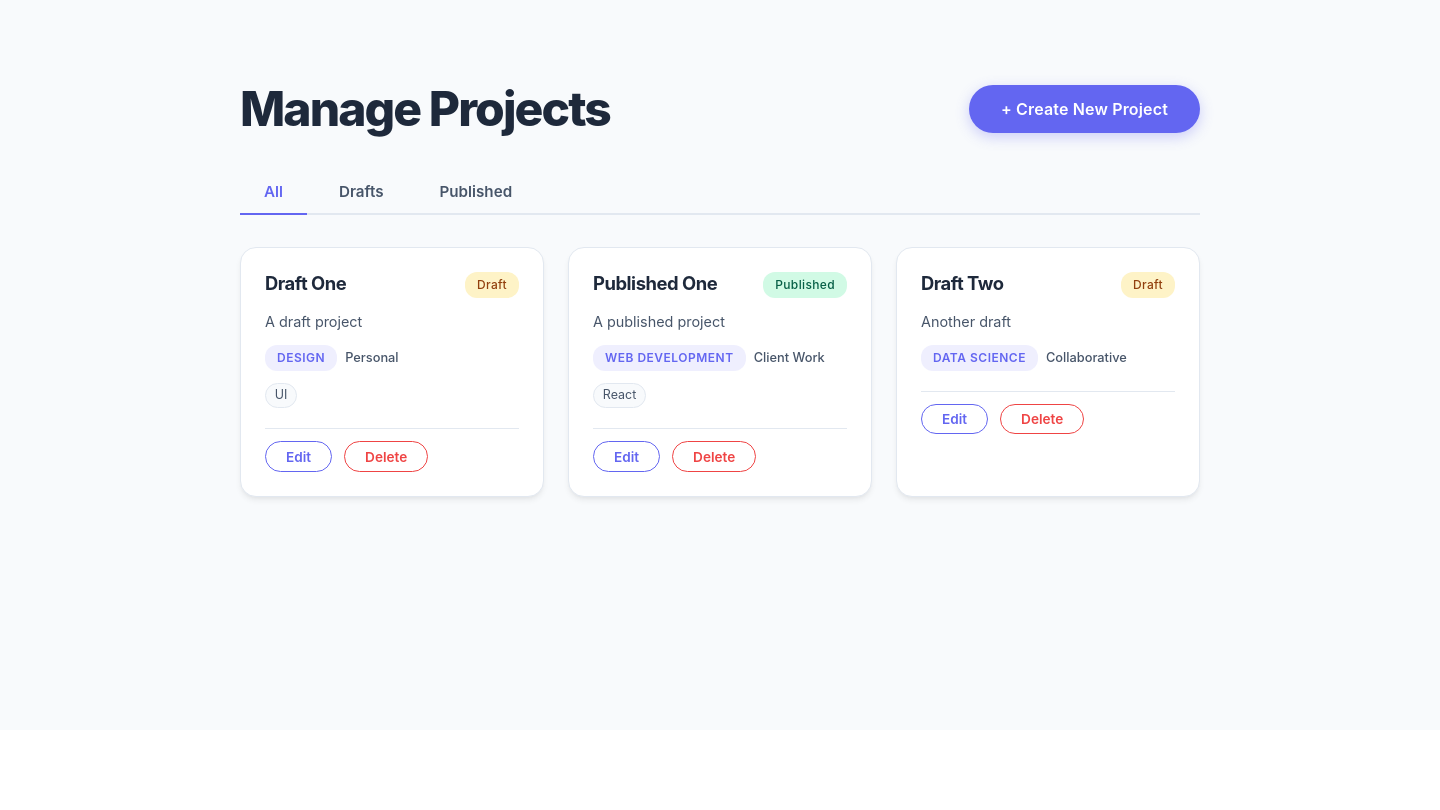
ProjectsManager › Delete project › shows confirmation dialog when delete is clicked
Click the button with aria-label "delete draft one" at (386, 456), box left=344, top=441, right=428, bottom=472
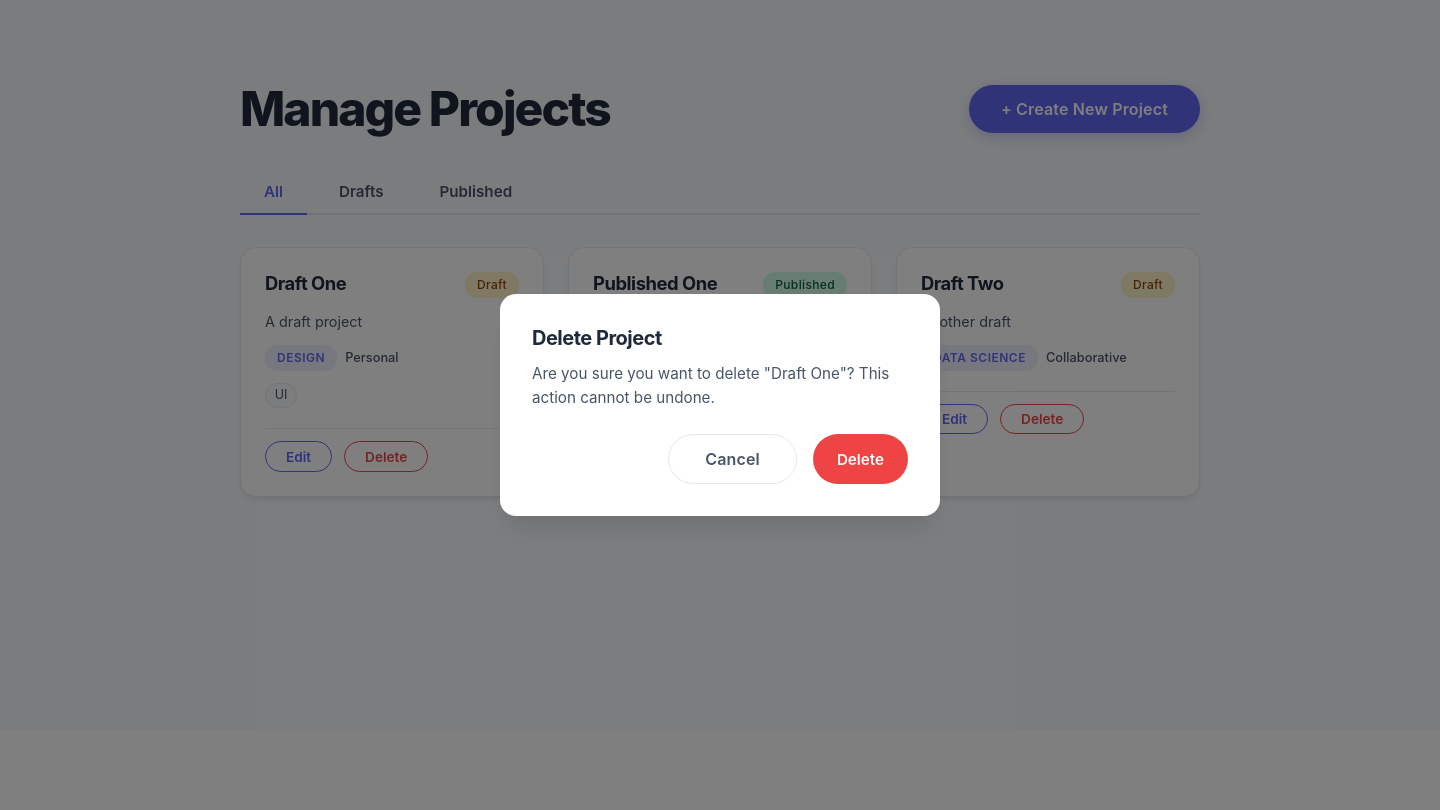
expect the text "Are you sure you want to delete" is shown: met, box left=532, top=364, right=771, bottom=383
expect the dialog is shown: met, box left=500, top=294, right=940, bottom=516
